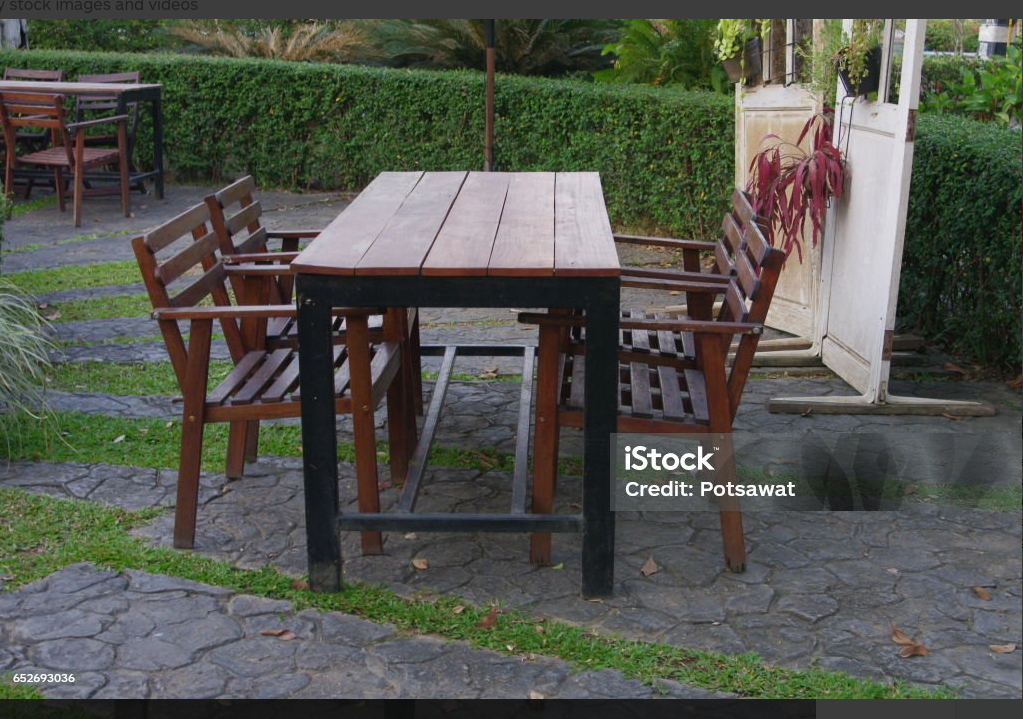obstacle: (293, 160, 634, 606), (135, 201, 404, 547), (560, 195, 779, 568), (4, 86, 125, 230)
